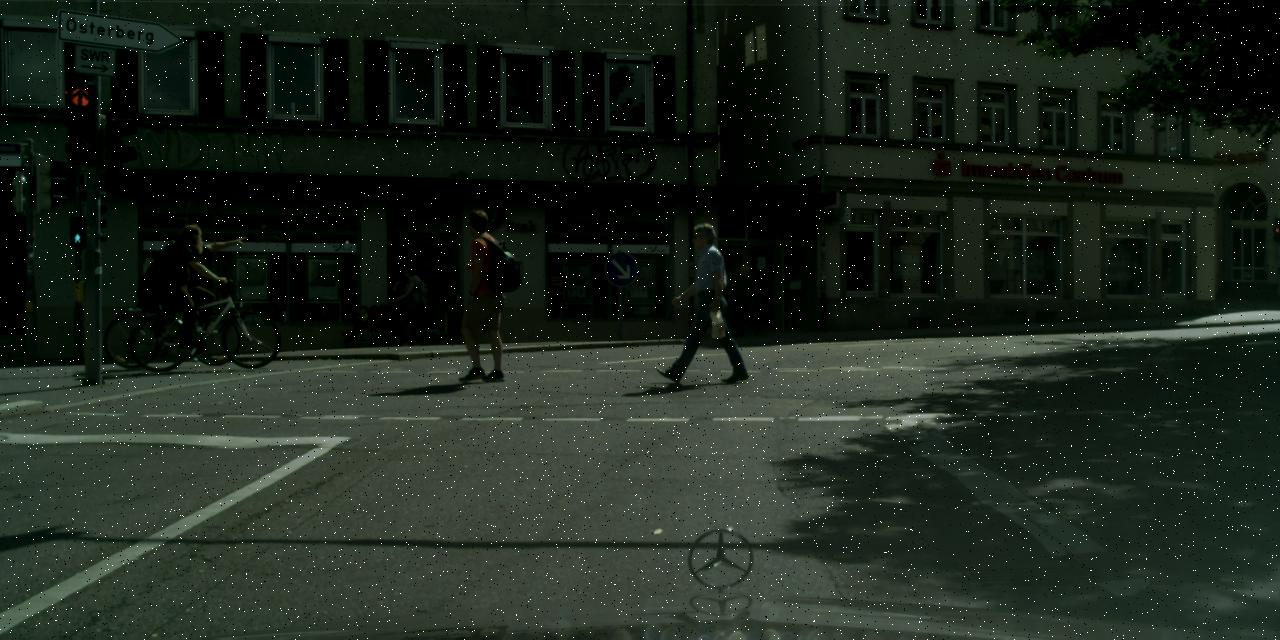ped: (446, 209, 515, 380), (671, 222, 735, 380), (166, 223, 214, 343), (150, 240, 192, 342), (394, 267, 425, 345), (732, 263, 761, 336)
